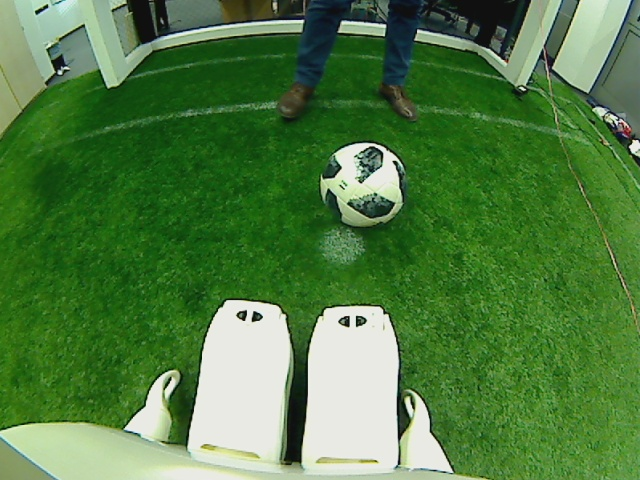ball: (322, 137, 405, 229)
